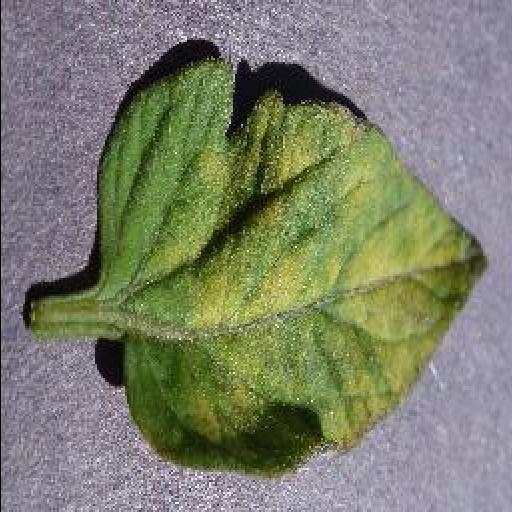disease_tomato: (98, 58, 490, 478)
